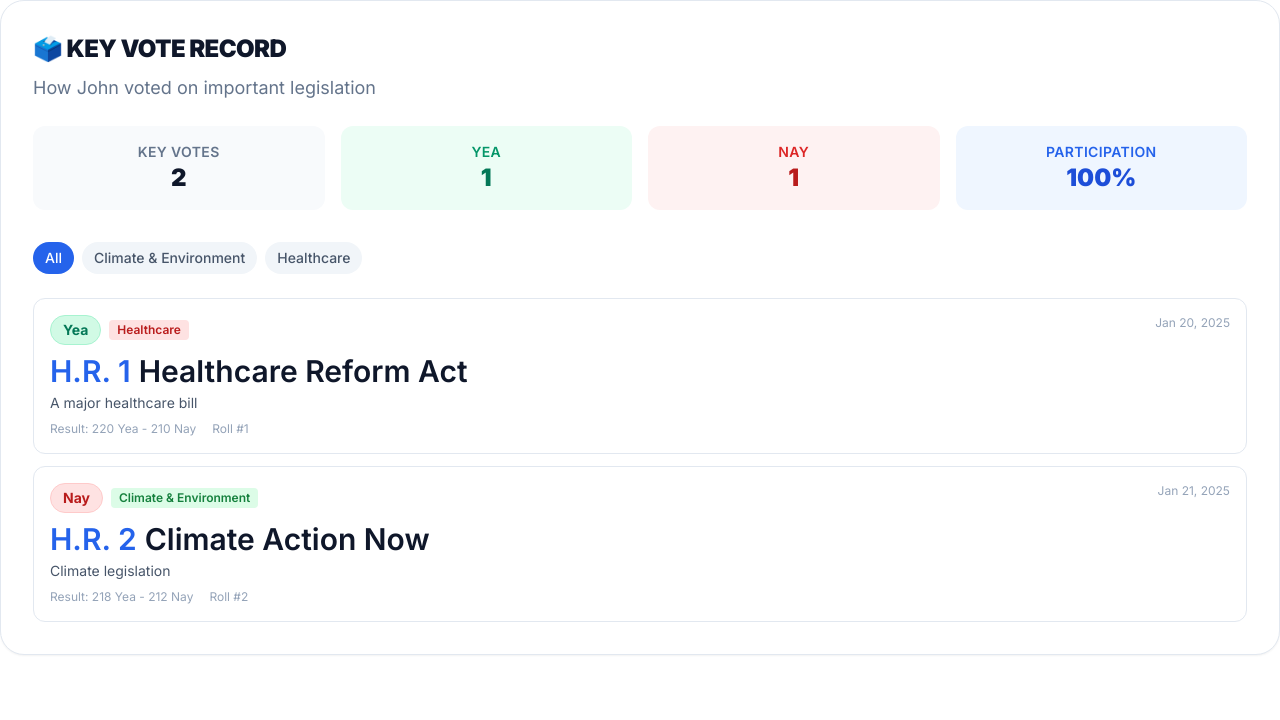
Scenario: MemberVotingRecord › filters by category when clicked
The image size is (1280, 720).
Click the button "Healthcare": x=314, y=258 [265,242,362,274]
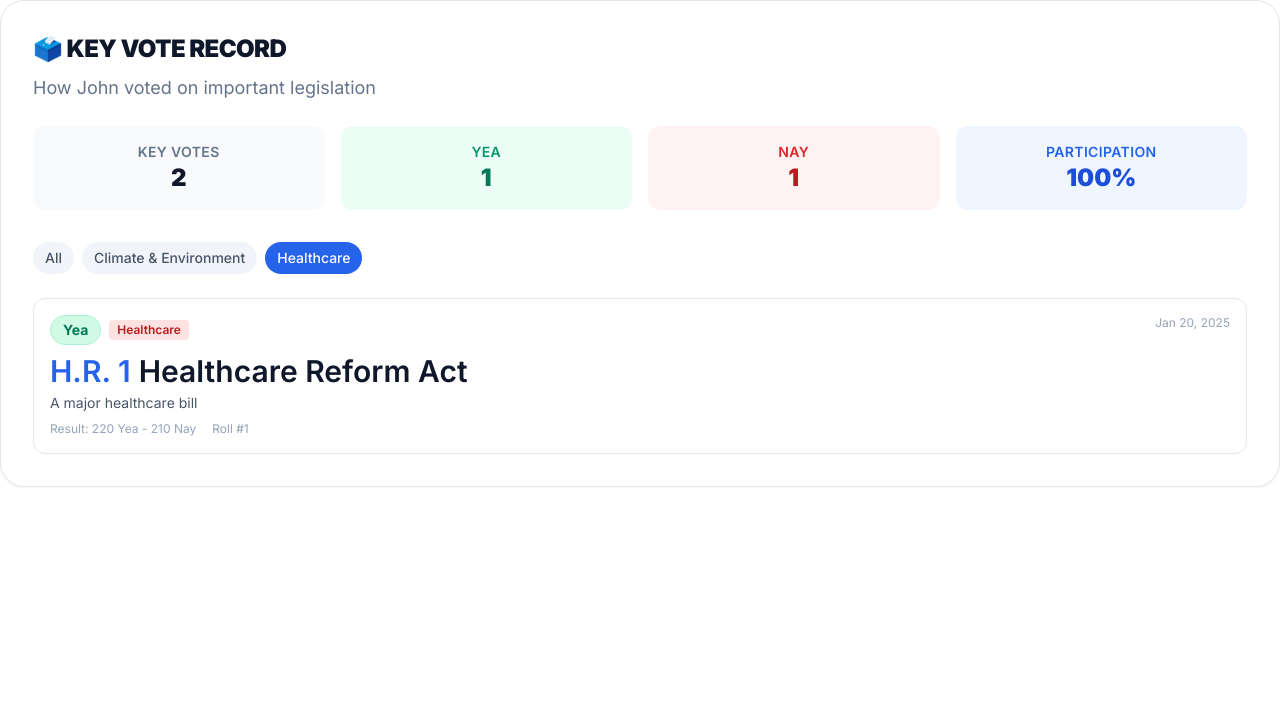
Expected: the text "H.R. 1" is shown, [50,353,131,389]
Now the text "H.R. 2" is gone
